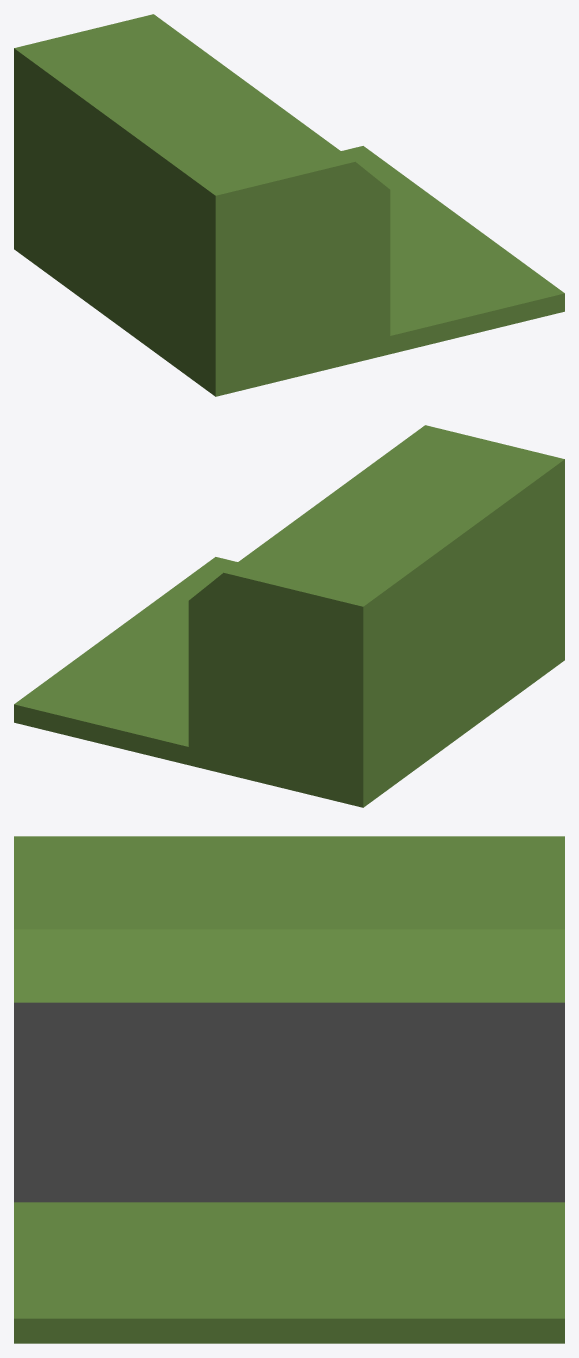
File: cliff.fbx
3 renders of one model, top to bottom at view 1: azimuth 30°, elevation 25°; view 2: azimuth 150°, elevation 25°; view 3: azimuth 270°, elevation 25°, orthographic. The views are drawn at different scales.
Visible parts, largest first — view 1: Cube.003; view 2: Cube.003; view 3: Cube.003.
Boxes of the visible parts, x1,y1,x2,y2 form: Cube.003: (14,14,564,396); Cube.003: (14,425,564,807); Cube.003: (14,836,564,1343).
Size of the model in its own units: 200 by 110 by 200.
